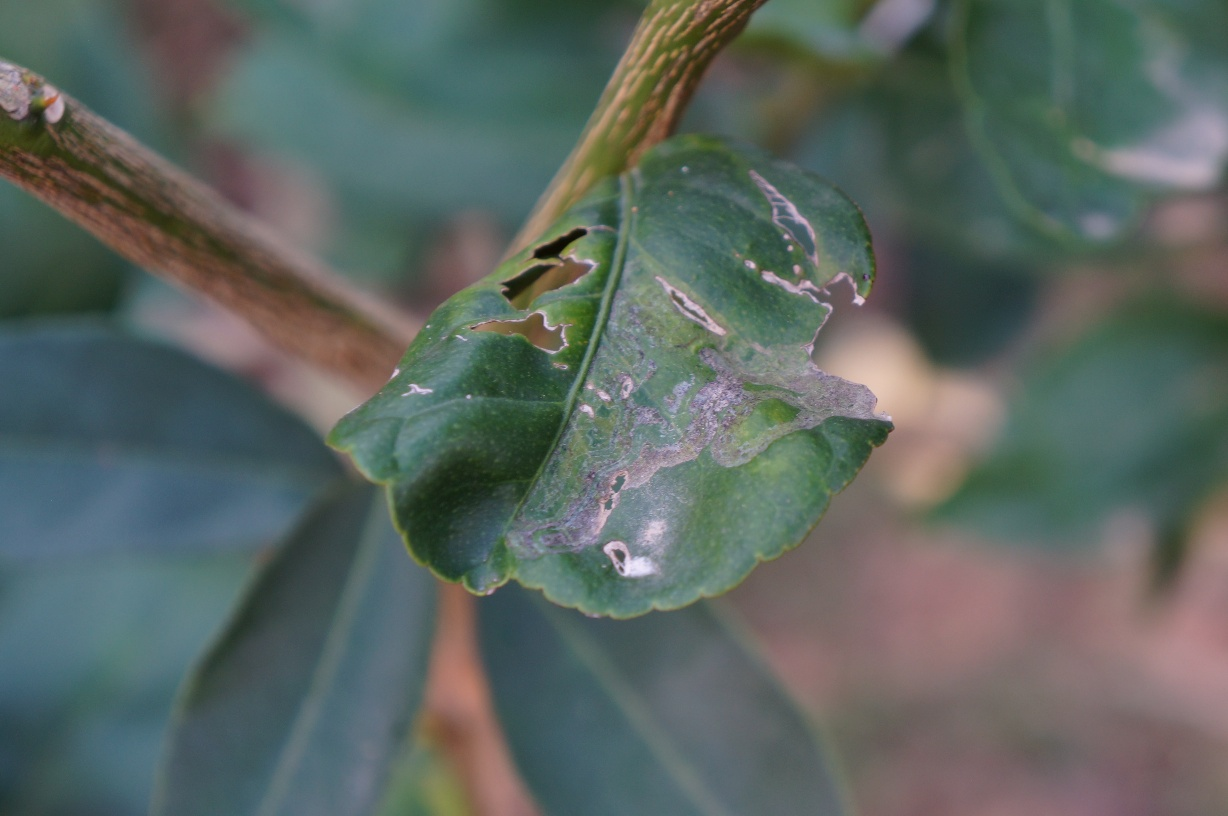damage: (497, 307, 901, 583)
